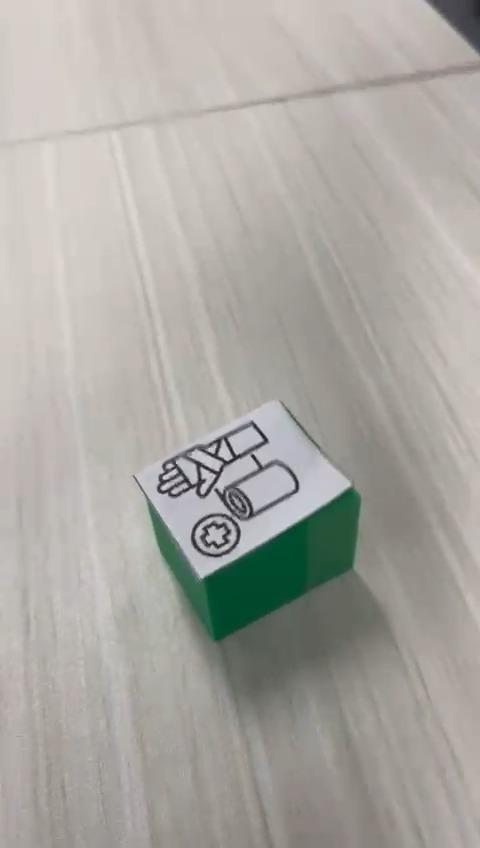Bandages: (132, 395, 360, 641)
